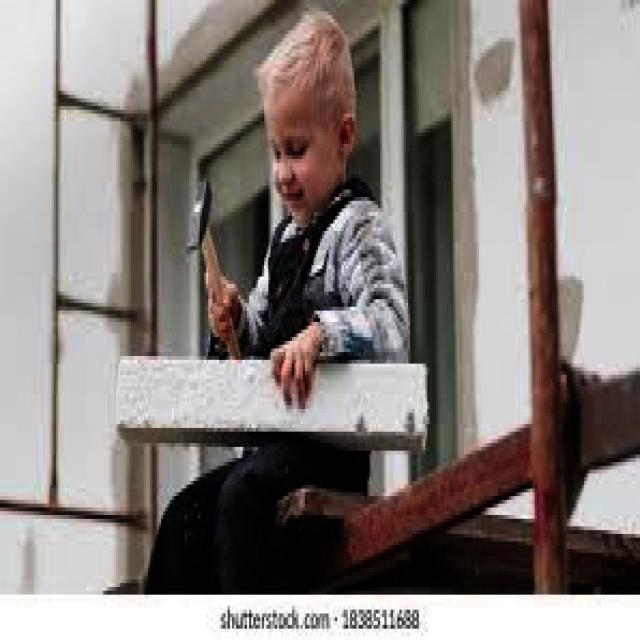hammer: (181, 157, 246, 369)
